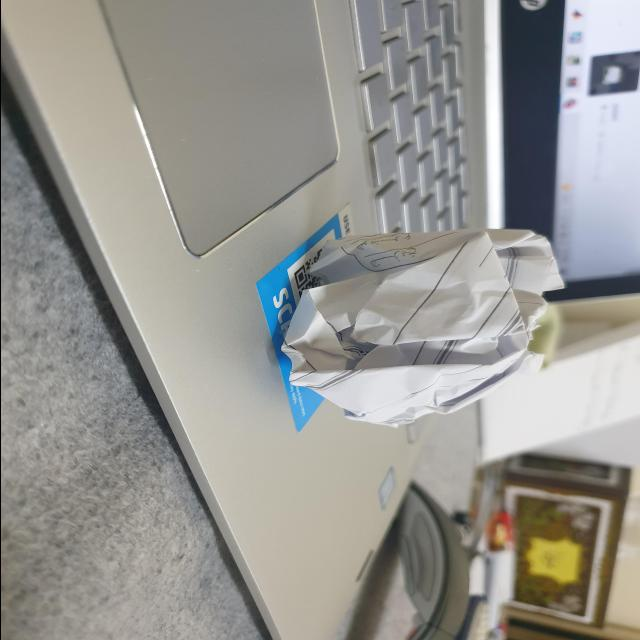kertas: (268, 215, 582, 438)
